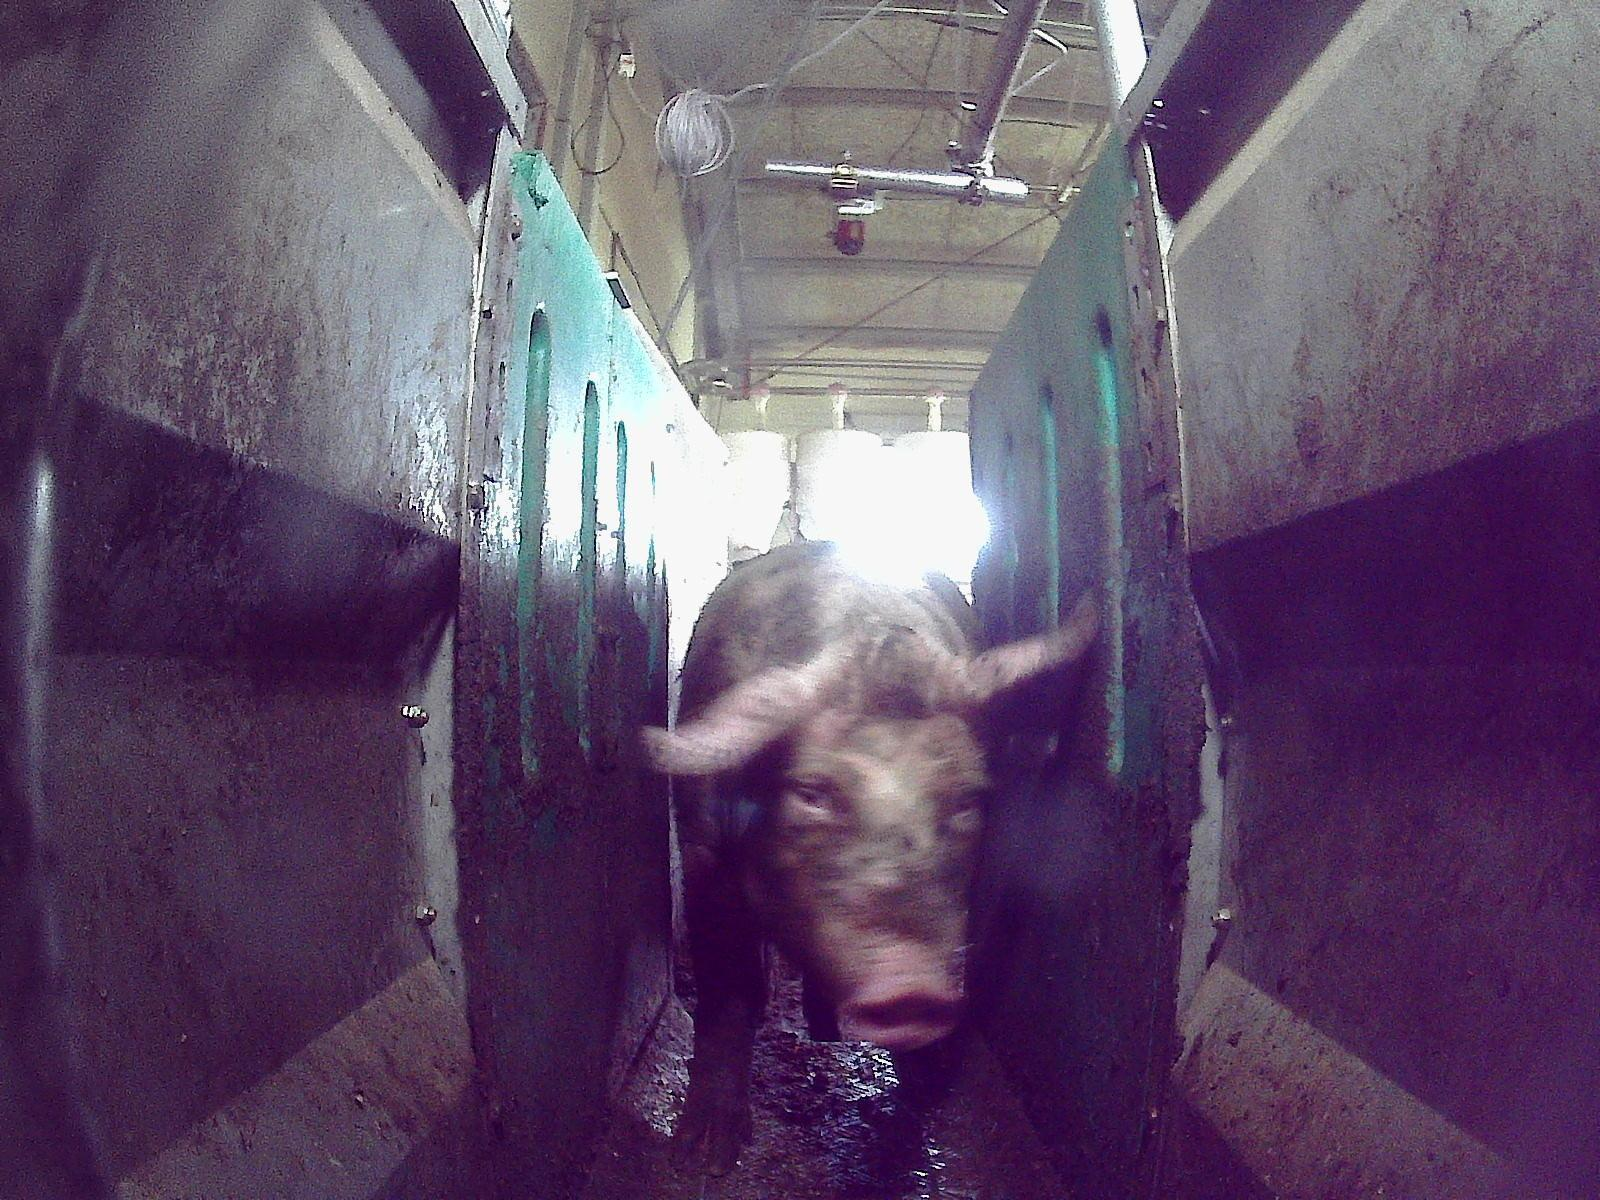Face: (762, 682, 988, 1049)
